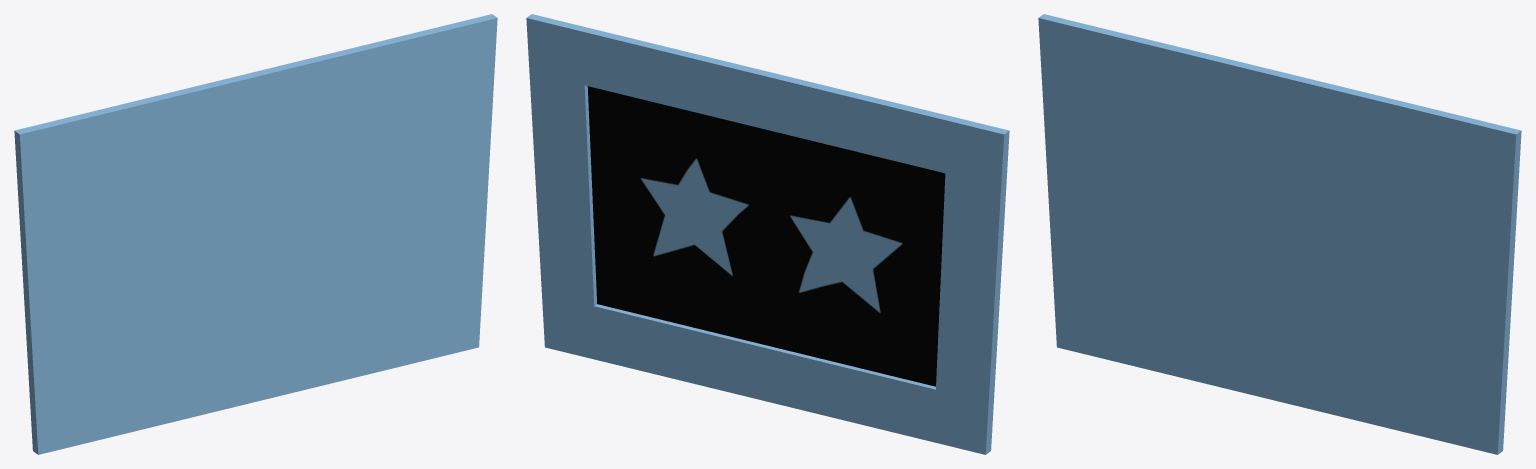
Rendered from Cuadro.obj.
The picture shows the model from 3 angles, left to right: view 1: azimuth 30°, elevation 25°; view 2: azimuth 150°, elevation 25°; view 3: azimuth 330°, elevation 25°; orthographic projection.
Visible parts, largest first — view 1: Cube_Cube.001; view 2: Cube_Cube.001; view 3: Cube_Cube.001.
Boxes of the visible parts, x1=… form: Cube_Cube.001: x1=14, y1=14, x2=497, y2=454; Cube_Cube.001: x1=526, y1=14, x2=1009, y2=454; Cube_Cube.001: x1=1038, y1=14, x2=1521, y2=454.
Bounding box in the file's own units: 1.29 × 0.8384 × 0.0253.
Materials: 2 (2 with a texture image).
